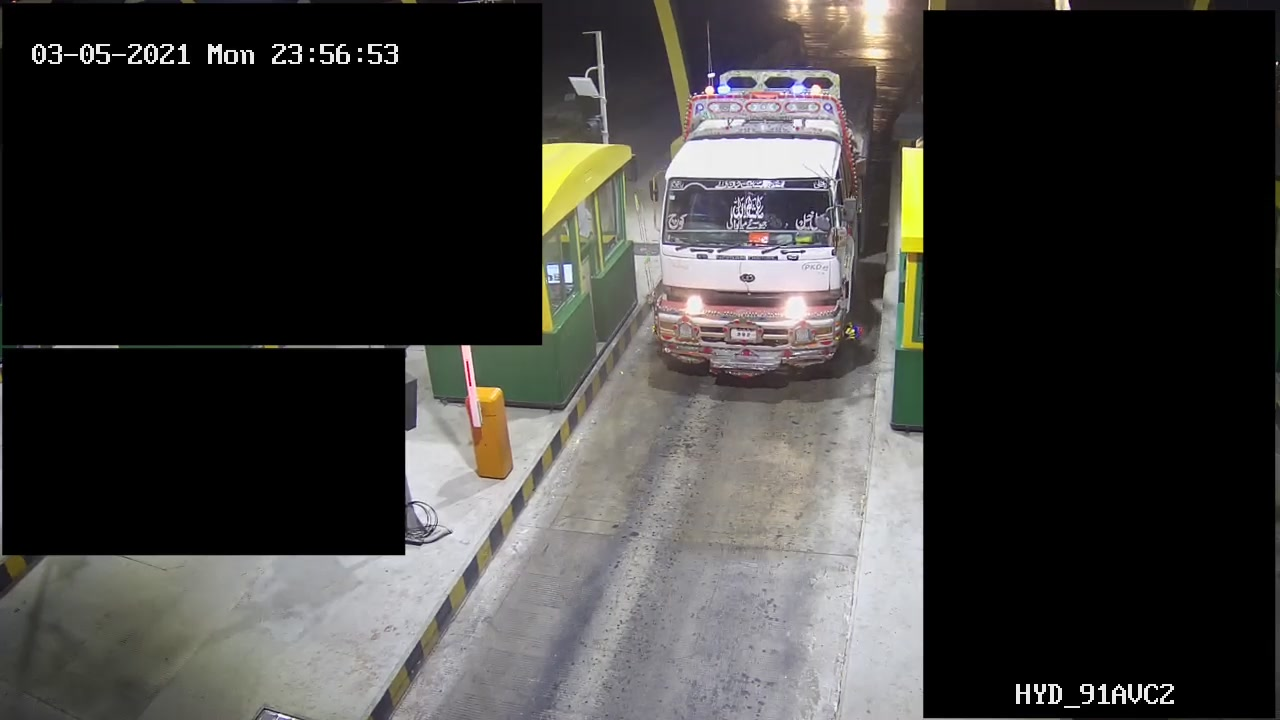F6: (642, 55, 890, 390)
